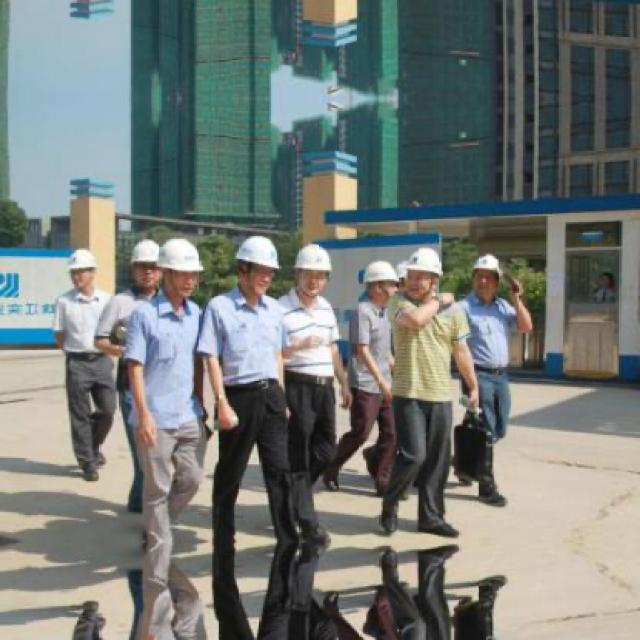helmet: (234, 231, 283, 296), (159, 236, 203, 299), (291, 241, 335, 299), (403, 245, 445, 299), (129, 239, 162, 292), (363, 259, 400, 304), (472, 251, 506, 298), (66, 247, 103, 290)
